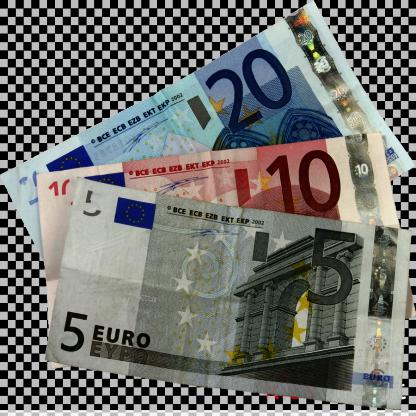euro_banknote: (25, 79, 393, 271), (55, 198, 407, 389), (40, 154, 400, 304)
